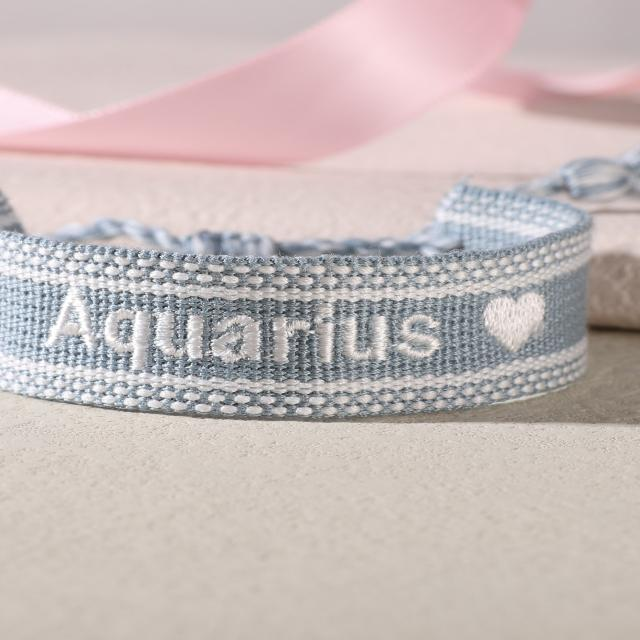bracelet: (0, 94, 640, 436)
